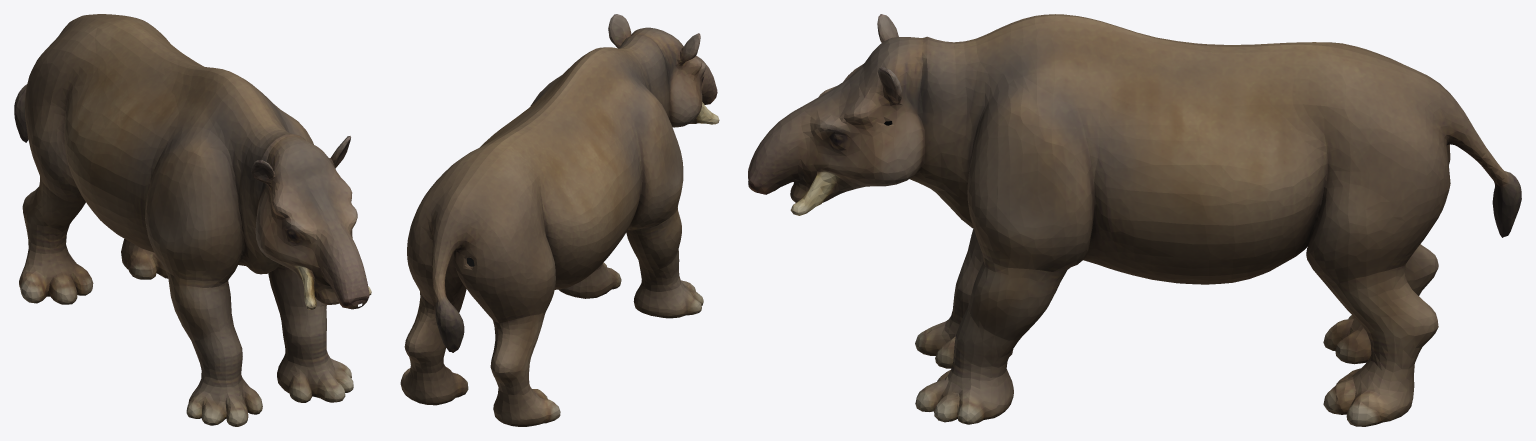
The picture shows the model from 3 angles, left to right: view 1: azimuth 30°, elevation 25°; view 2: azimuth 150°, elevation 25°; view 3: azimuth 270°, elevation 25°; orthographic projection. The views are drawn at different scales.
Parts seen in each view (by area): view 1: world; view 2: world; view 3: world.
Part boxes in pixels (<box>): world: <box>14,14,371,426</box>; world: <box>400,14,719,426</box>; world: <box>748,14,1521,426</box>.
Size of the model in its own units: 0.3108 by 0.5209 by 1.
1 material, 1 textured.
